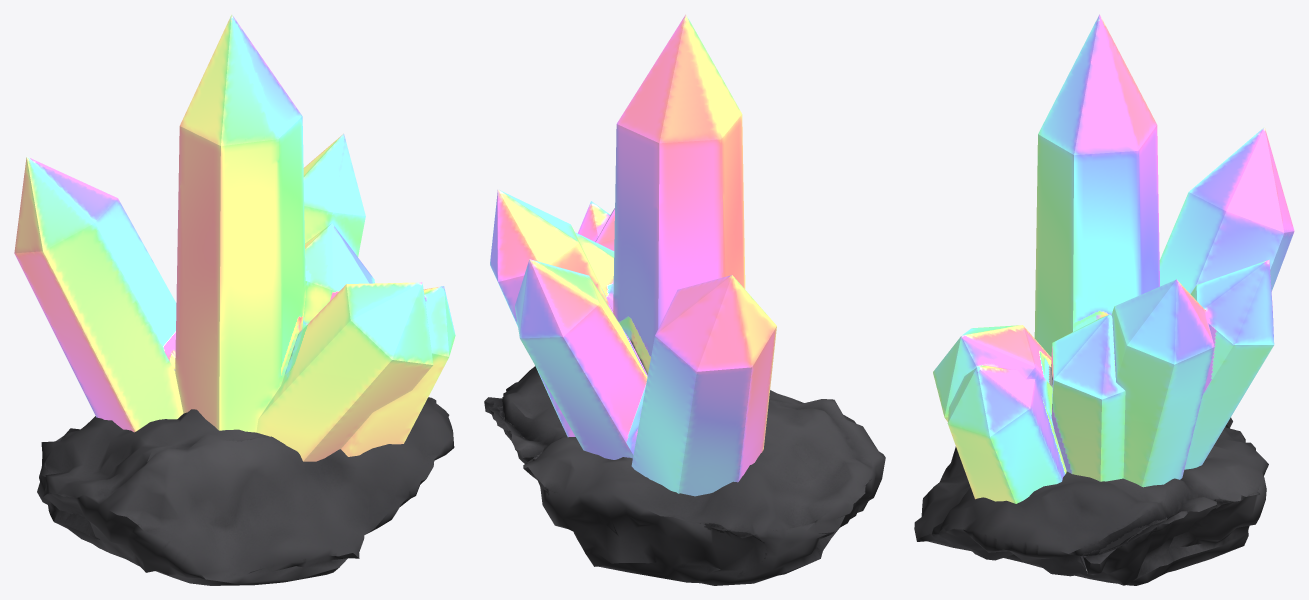
File: cristal_arcoiris.fbx
3 views of the same model, side by side, from view 1: azimuth 30°, elevation 25°; view 2: azimuth 150°, elevation 25°; view 3: azimuth 270°, elevation 25° (orthographic). The views are drawn at different scales.
Parts seen in each view (by area): view 1: cristal_arcoiris_cristal, cristal_arcoiris; view 2: cristal_arcoiris_cristal, cristal_arcoiris; view 3: cristal_arcoiris_cristal, cristal_arcoiris.
Part boxes in pixels (x1,y1,x2,y2): cristal_arcoiris_cristal: (14, 14, 455, 461); cristal_arcoiris: (37, 397, 454, 585); cristal_arcoiris_cristal: (490, 14, 776, 496); cristal_arcoiris: (484, 366, 885, 585); cristal_arcoiris_cristal: (933, 14, 1294, 503); cristal_arcoiris: (914, 417, 1268, 585).
Size of the model in its own units: 2.34 by 3.01 by 1.98.
2 materials, 2 textured.
